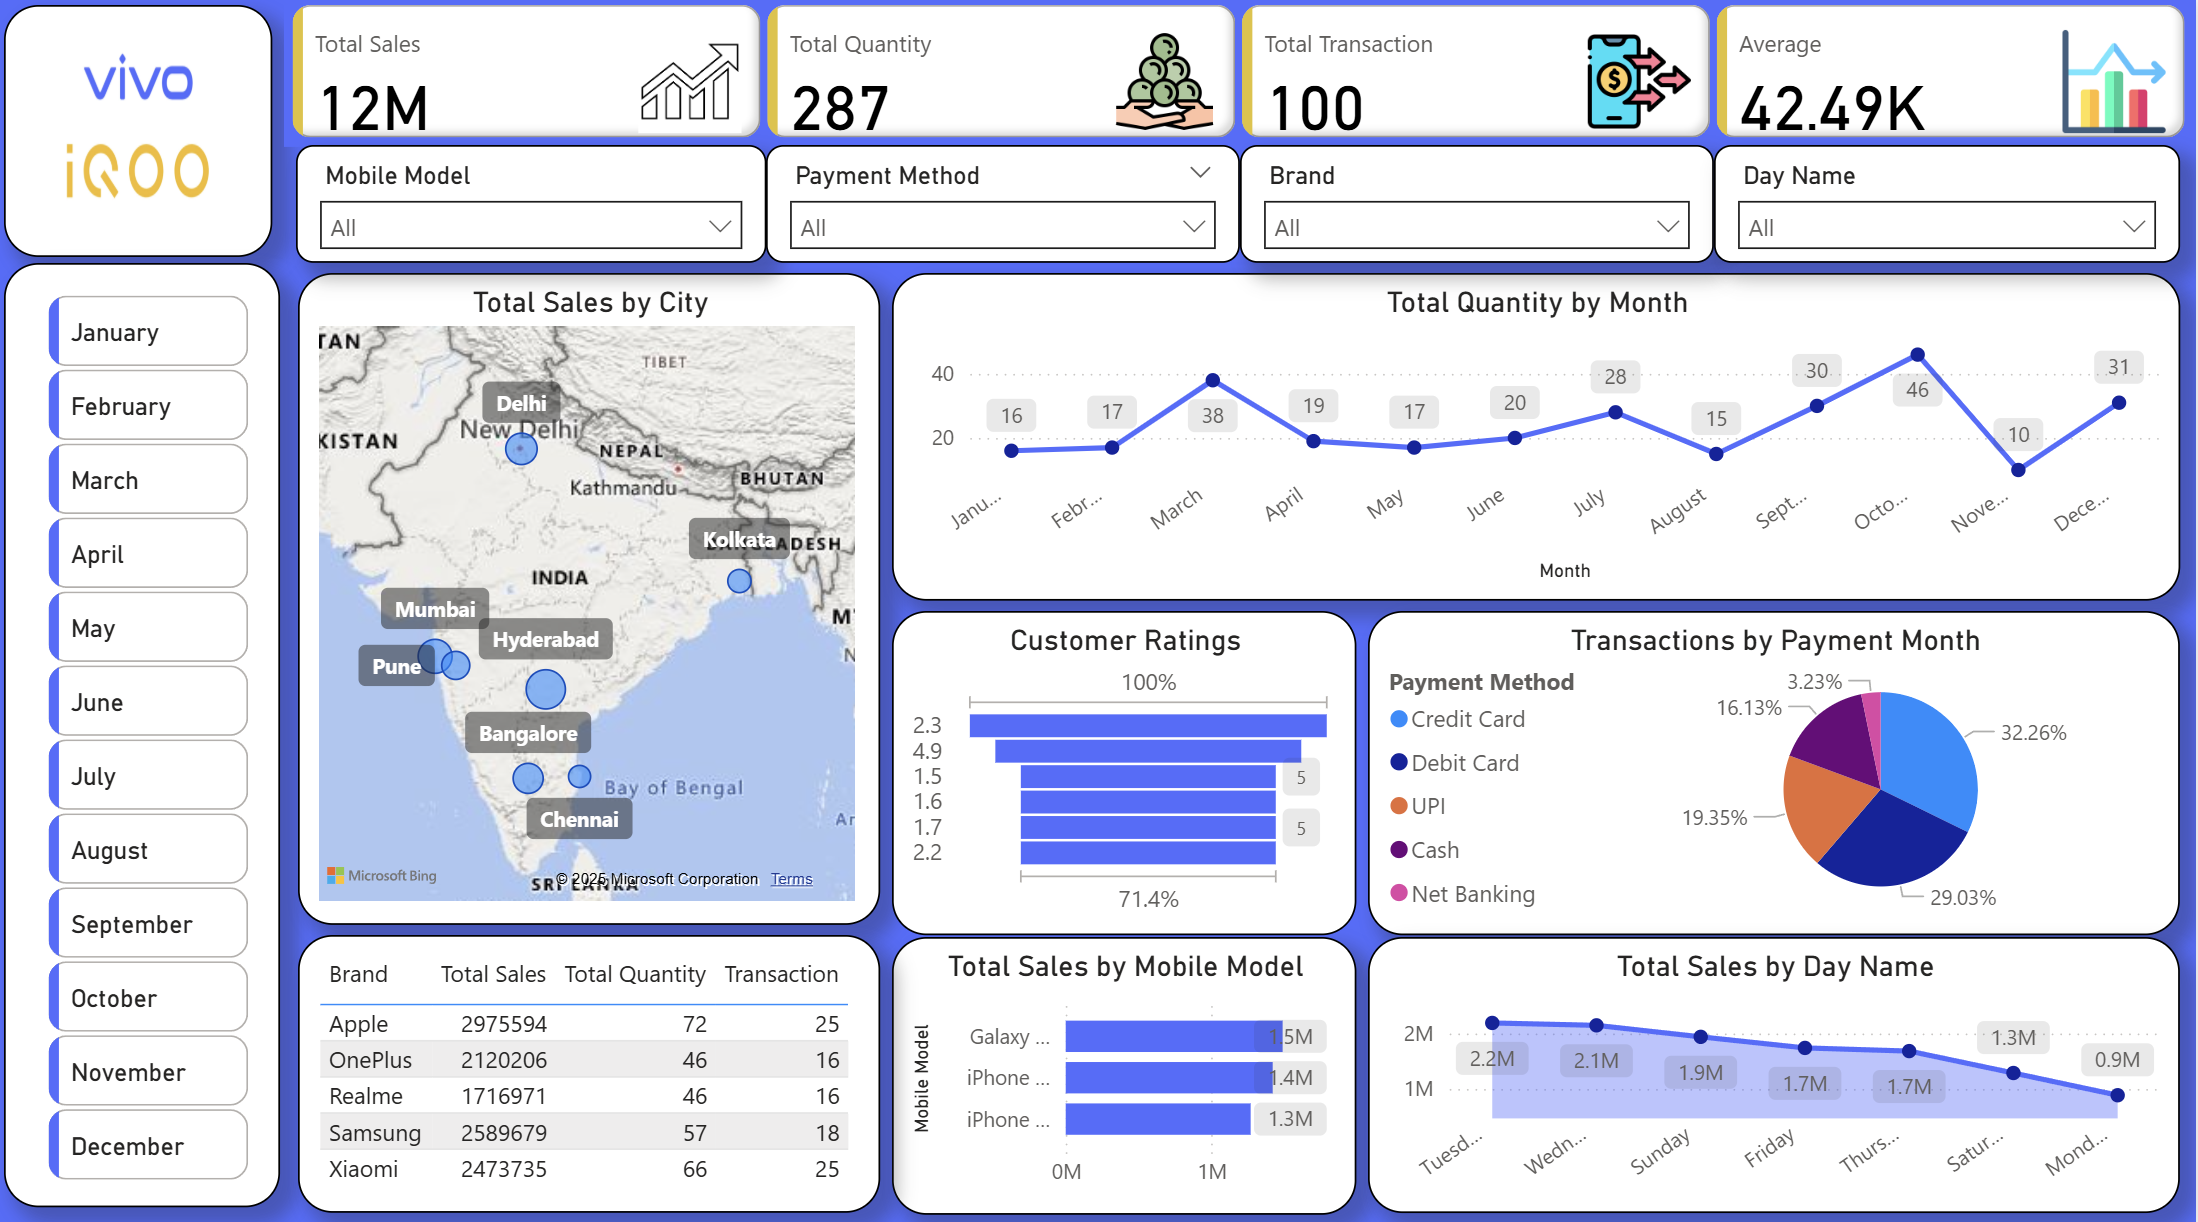

The page's visual inventory and layout, read from the dashboard file:
{"tool":"powerbi","page":{"name":"Page 1","canvas":[1280,720],"ordinal":0},"visuals":[{"type":"shape","box":[5.8,4.7,155.8,146.5],"z":0},{"type":"image","box":[11.6,10.5,148.8,136],"z":1000},{"type":"shape","box":[6.4,154.3,159.4,554.6],"z":2000},{"type":"advancedSlicerVisual","fields":{"Values":["Mobile_sales Data.Date.Variation.Date Hierarchy.Month"]},"box":[26.8,168.3,126.2,530.4],"z":3000},{"type":"cardVisual","fields":{"Data":["Mobile_sales Data.Total Sales","Mobile_sales Data.Total Quantity","Mobile_sales Data.Total   Transaction","Mobile_sales Data.Average"]},"box":[168.6,4.7,1111.6,82.6],"z":4000},{"type":"map","fields":{"Category":["Mobile_sales Data.City"],"Size":["Mobile_sales Data.Total Sales"]},"box":[176.7,160.5,338.4,379.1],"z":5000},{"type":"lineChart","title":"Total Quantity by Month","fields":{"Category":["Mobile_sales Data.Date.Variation.Date Hierarchy.Month","Mobile_sales Data.Date.Variation.Date Hierarchy.Day"],"Y":["Mobile_sales Data.Total Quantity"]},"box":[522.1,160.5,748.8,190.7],"z":6000},{"type":"clusteredBarChart","title":"Total Sales by Mobile Model","fields":{"Category":["Mobile_sales Data.Mobile Model"],"Y":["Mobile_sales Data.Total Sales"]},"box":[522.1,546.5,269.8,161.6],"z":7000},{"type":"pieChart","title":"Transactions by Payment Month","fields":{"Category":["Mobile_sales Data.Payment Method"],"Y":["Mobile_sales Data.Total   Transaction"]},"box":[798.8,357,472.1,188.4],"z":8000},{"type":"funnel","title":"Customer Ratings","fields":{"Category":["Mobile_sales Data.Customer Ratings"],"Y":["CountNonNull(Mobile_sales Data.Customer Ratings)"]},"box":[522.1,357,269.8,188.4],"z":9000},{"type":"areaChart","fields":{"Category":["Mobile_sales Data.Day Name"],"Y":["Mobile_sales Data.Total Sales"]},"box":[798.8,546.5,472.1,160.5],"z":10000},{"type":"tableEx","fields":{"Values":["Mobile_sales Data.Brand","Mobile_sales Data.Total Sales","Mobile_sales Data.Total Quantity","Mobile_sales Data.Total   Transaction"]},"box":[176.7,545.3,338.4,161.6],"z":11000},{"type":"slicer","fields":{"Values":["Mobile_sales Data.Mobile Model"]},"box":[175.6,86,273.3,68.6],"z":12000},{"type":"slicer","fields":{"Values":["Mobile_sales Data.Brand"]},"box":[724.4,86,275.6,68.6],"z":13000},{"type":"slicer","fields":{"Values":["Mobile_sales Data.Day Name"]},"box":[1000,86,270.9,68.6],"z":14000},{"type":"slicer","fields":{"Values":["Mobile_sales Data.Payment Method"]},"box":[448.8,86,275.6,68.6],"z":15000}]}

Visuals, with their boxes in screenshot pixels (x1, y1, x2, y2), scaled from the page's 1280x720 canvas onto the 2198x1222 screenshot:
shape: left=10, top=8, right=277, bottom=257
image: left=20, top=18, right=275, bottom=249
shape: left=11, top=262, right=285, bottom=1203
advancedSlicerVisual - Mobile_sales Data.Date.Variation.Date Hierarchy.Month: left=46, top=286, right=263, bottom=1186
cardVisual - Mobile_sales Data.Total Sales x Mobile_sales Data.Total Quantity: left=290, top=8, right=2197, bottom=148
map - Mobile_sales Data.City x Mobile_sales Data.Total Sales: left=303, top=272, right=885, bottom=916
"Total Quantity by Month" lineChart: left=897, top=272, right=2182, bottom=596
"Total Sales by Mobile Model" clusteredBarChart: left=897, top=928, right=1360, bottom=1202
"Transactions by Payment Month" pieChart: left=1372, top=606, right=2182, bottom=926
"Customer Ratings" funnel: left=897, top=606, right=1360, bottom=926
areaChart - Mobile_sales Data.Day Name x Mobile_sales Data.Total Sales: left=1372, top=928, right=2182, bottom=1200
tableEx - Mobile_sales Data.Brand x Mobile_sales Data.Total Sales: left=303, top=925, right=885, bottom=1200
slicer - Mobile_sales Data.Mobile Model: left=302, top=146, right=771, bottom=262
slicer - Mobile_sales Data.Brand: left=1244, top=146, right=1717, bottom=262
slicer - Mobile_sales Data.Day Name: left=1717, top=146, right=2182, bottom=262
slicer - Mobile_sales Data.Payment Method: left=771, top=146, right=1244, bottom=262
